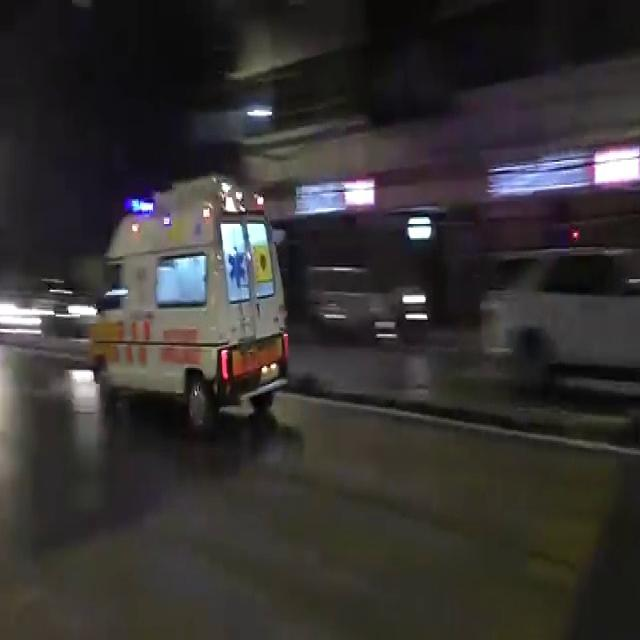ambulance: (75, 185, 297, 412)
